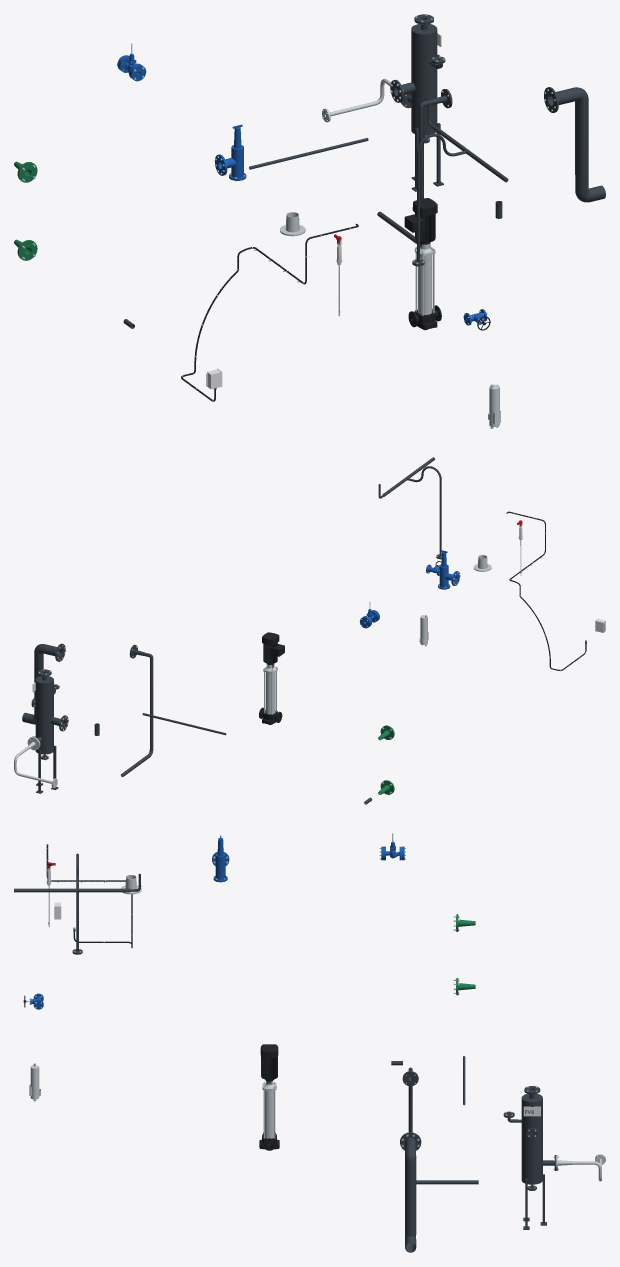
3 views of the same model, one above another, from view 1: azimuth 30°, elevation 25°; view 2: azimuth 150°, elevation 25°; view 3: azimuth 270°, elevation 25° (orthographic). The views are drawn at different scales.
Parts seen in each view (by area): view 1: separator_fv8 / dark, bdv_water_drain / dark, pressure_header / dark, pump_2 CAD solid 15, bottom_to_bdv / dark, safety_2 / blue, wiring_lcs600 / black, pump_2 CAD solid 2, eco_inlet_adapter / green; view 2: separator_fv8 / dark, bdv_water_drain / dark, bottom_to_bdv / dark, pressure_header / dark, pump_2 CAD solid 15, safety_2 / blue; view 3: separator_fv8 / dark, bdv_water_drain / dark, pressure_header / dark, bottom_to_bdv / dark, pump_2 CAD solid 15.
Part boxes in pixels (x1,y1,x2,y2): separator_fv8 / dark: [390, 14, 445, 191]; bdv_water_drain / dark: [544, 87, 605, 202]; pressure_header / dark: [412, 103, 508, 266]; pump_2 CAD solid 15: [404, 198, 437, 243]; bottom_to_bdv / dark: [377, 89, 452, 243]; safety_2 / blue: [214, 124, 246, 180]; wiring_lcs600 / black: [181, 223, 358, 401]; pump_2 CAD solid 2: [418, 255, 432, 314]; eco_inlet_adapter / green: [14, 161, 37, 260]; separator_fv8 / dark: [31, 669, 68, 793]; bdv_water_drain / dark: [22, 643, 65, 724]; bottom_to_bdv / dark: [121, 644, 153, 776]; pressure_header / dark: [378, 457, 441, 559]; pump_2 CAD solid 15: [262, 632, 284, 664]; safety_2 / blue: [438, 550, 460, 589]; separator_fv8 / dark: [503, 1086, 556, 1229]; bdv_water_drain / dark: [400, 1132, 421, 1252]; pressure_header / dark: [14, 853, 141, 954]; bottom_to_bdv / dark: [402, 1067, 478, 1184]; pump_2 CAD solid 15: [260, 1044, 278, 1080].
Size of the model in its own units: 5.91 by 2.96 by 6.08.
